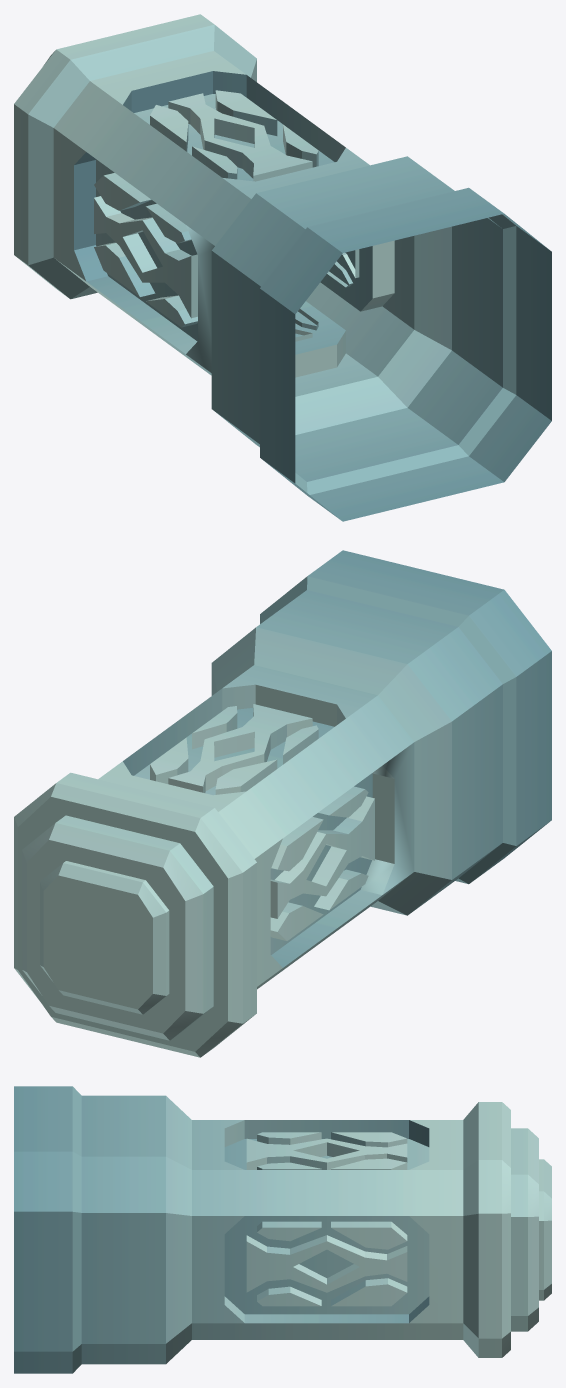
File: Ancient Pillar 01.FBX
The picture shows the model from 3 angles, top to bottom: view 1: azimuth 30°, elevation 25°; view 2: azimuth 150°, elevation 25°; view 3: azimuth 270°, elevation 25°; orthographic projection. The views are drawn at different scales.
Visible parts, largest first — view 1: Ancient Pillar 01; view 2: Ancient Pillar 01; view 3: Ancient Pillar 01.
Boxes of the visible parts, x1=… form: Ancient Pillar 01: x1=14, y1=14, x2=551, y2=521; Ancient Pillar 01: x1=14, y1=550, x2=551, y2=1057; Ancient Pillar 01: x1=14, y1=1086, x2=551, y2=1373.
Size of the model in its own units: 174 by 175 by 383.
1 material, 1 textured.
